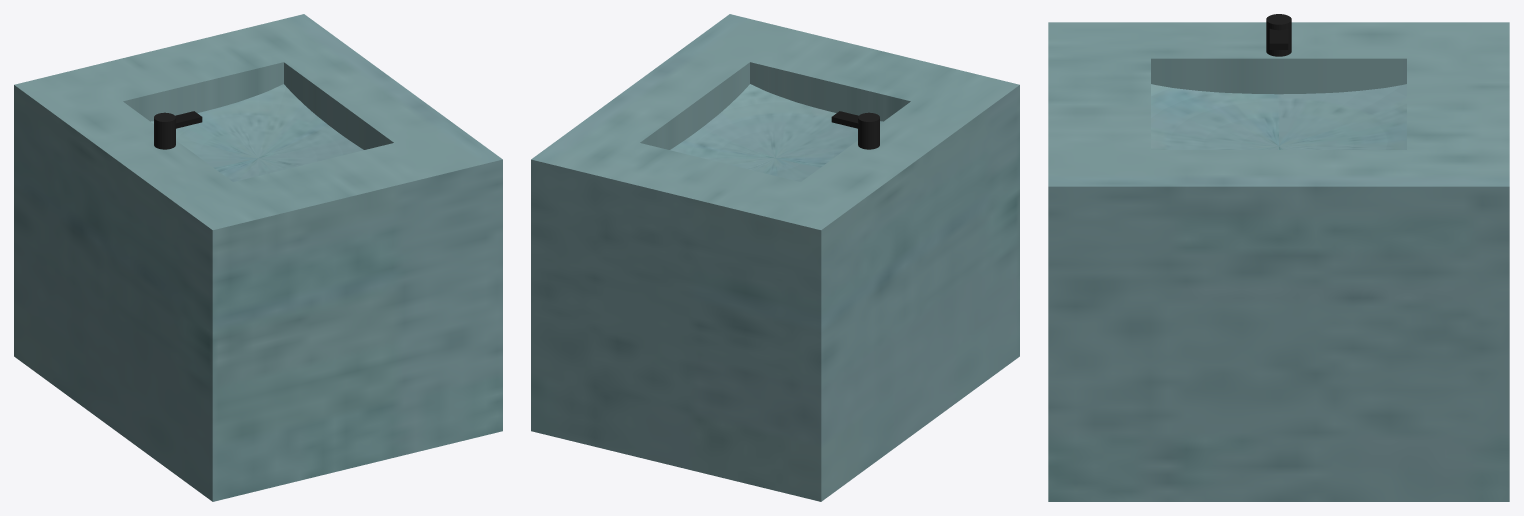
File: Bathroom Sink.fbx
3 renders of one model, left to right at view 1: azimuth 30°, elevation 25°; view 2: azimuth 150°, elevation 25°; view 3: azimuth 270°, elevation 25°, orthographic. The views are drawn at different scales.
Parts seen in each view (by area): view 1: Cube, Sphere, Cylinder; view 2: Cube, Sphere, Cylinder; view 3: Cube, Sphere, Cylinder.
Part boxes in pixels (x1,y1,x2,y2): Cube: [14, 14, 502, 501]; Sphere: [151, 84, 363, 181]; Cylinder: [154, 112, 175, 149]; Cube: [531, 14, 1019, 501]; Sphere: [670, 84, 882, 181]; Cylinder: [858, 112, 879, 149]; Cube: [1048, 22, 1509, 501]; Sphere: [1151, 84, 1406, 149]; Cylinder: [1266, 14, 1291, 56].
Bounding box in the file's own units: 466 × 459 × 553.
4 materials, 2 textured.
